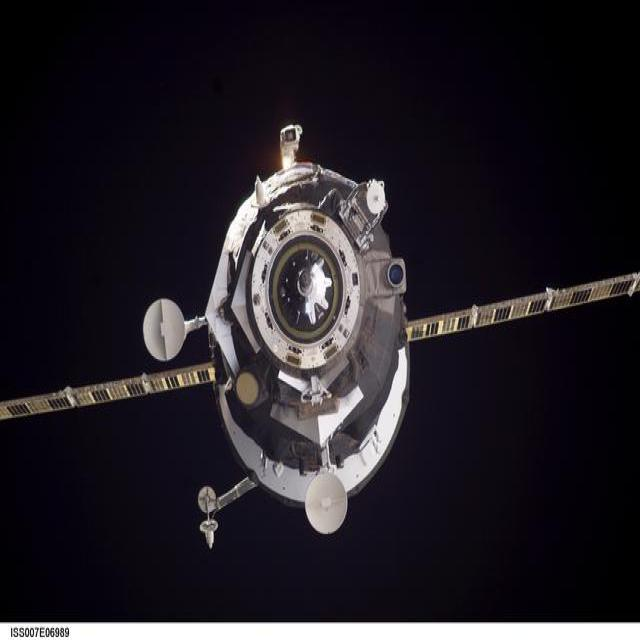medium_debris: (0, 125, 640, 547)
